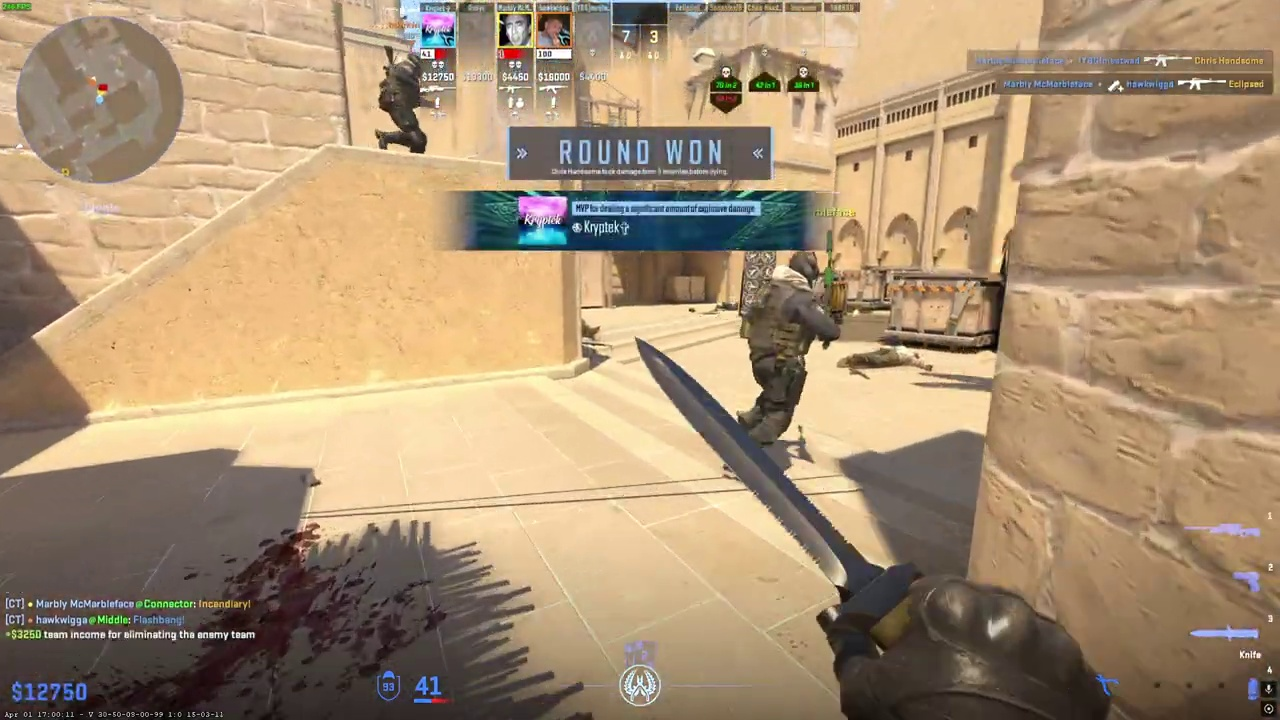CT: (738, 252, 841, 446), (376, 52, 432, 154)
